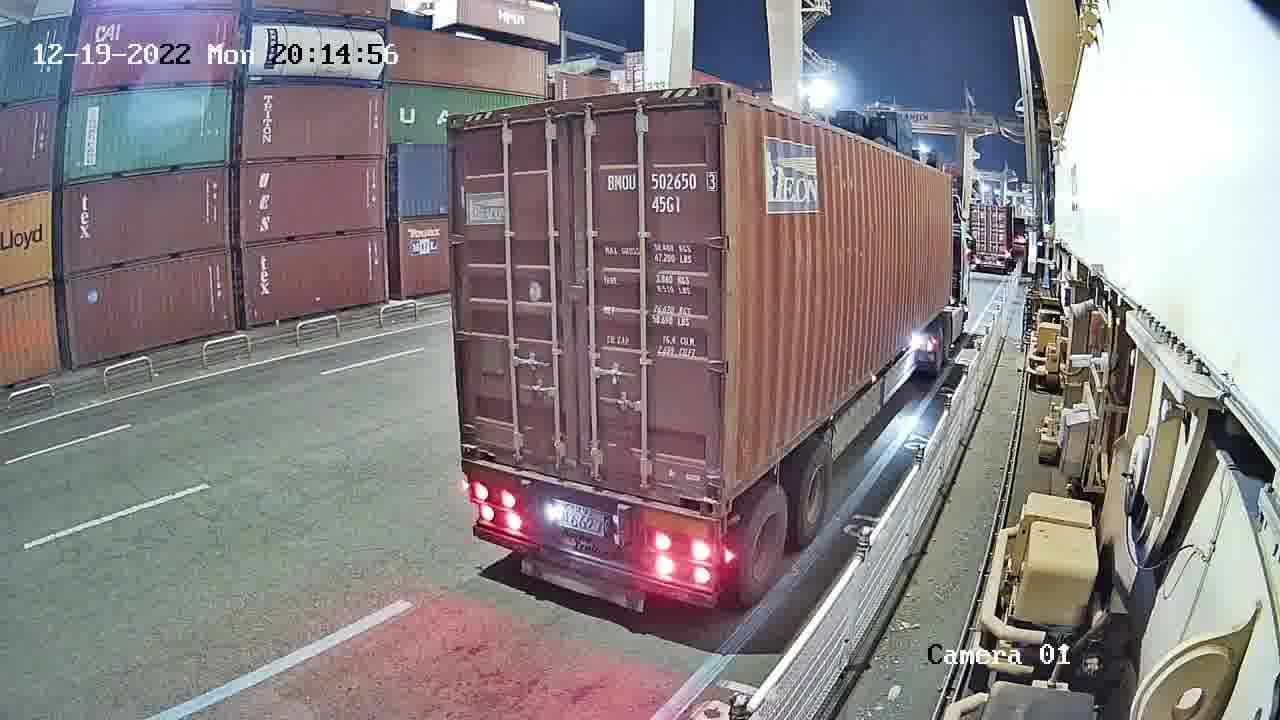Chassis: (460, 460, 721, 539)
Hole_L: (723, 451, 753, 515), (460, 419, 497, 462)
Hole_R: (674, 464, 720, 518)
